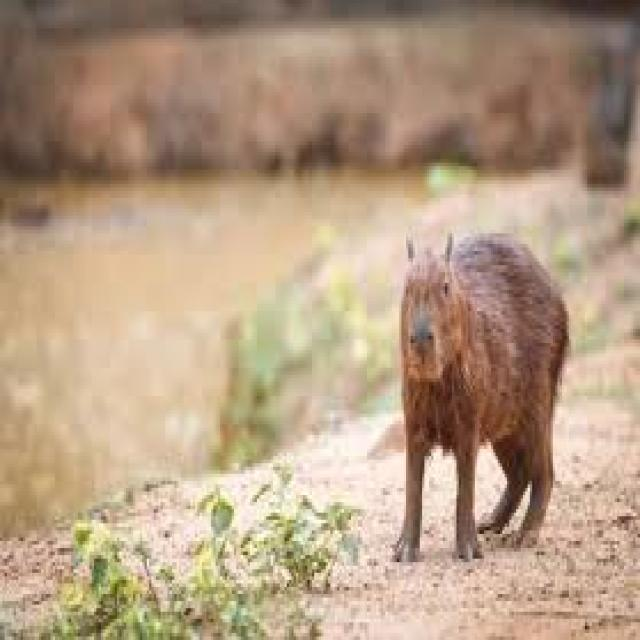capy: (389, 226, 573, 566)
